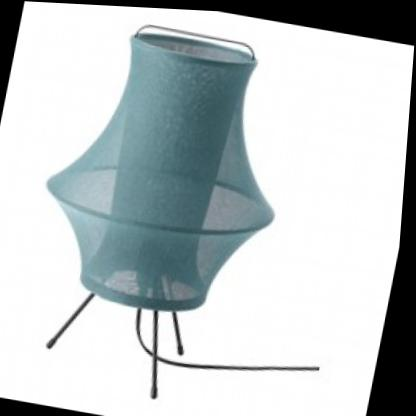Lamp: (0, 1, 336, 416)
